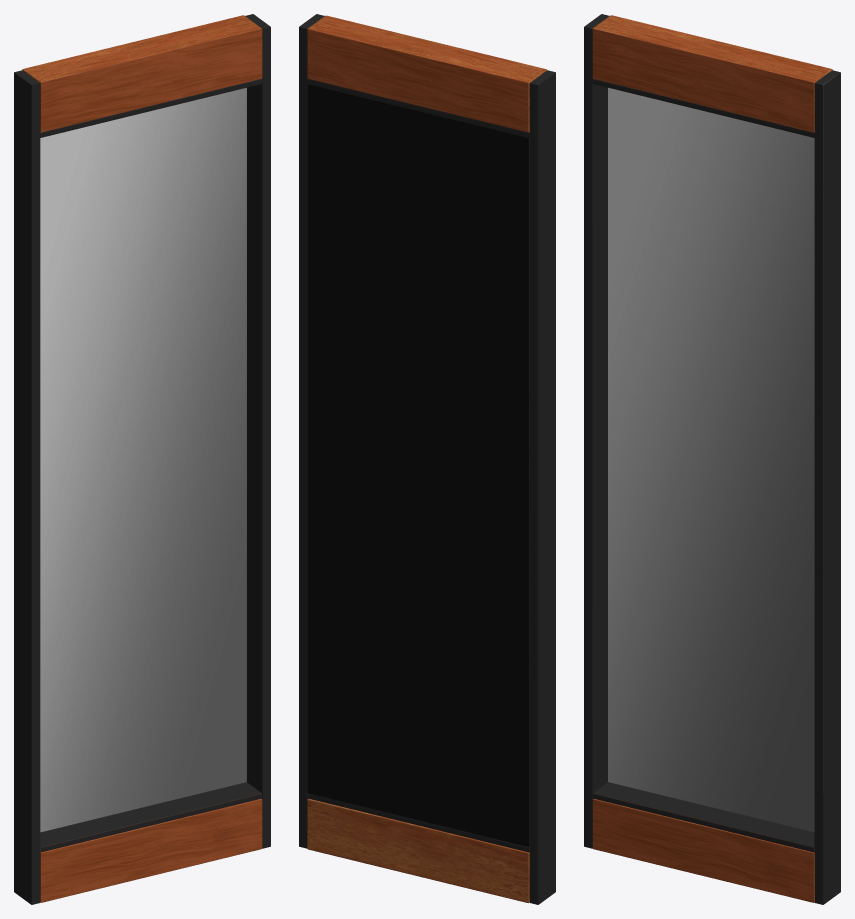
File: mirror_B073WHZKB2.glb
3 renders of one model, left to right at view 1: azimuth 30°, elevation 25°; view 2: azimuth 150°, elevation 25°; view 3: azimuth 330°, elevation 25°, orthographic.
Parts seen in each view (by area): view 1: RootNode; view 2: RootNode; view 3: RootNode.
Part boxes in pixels (x1,y1,x2,y2): RootNode: [14, 14, 270, 904]; RootNode: [299, 14, 555, 904]; RootNode: [584, 14, 840, 904].
Bounding box in the file's own units: 0.343 × 1.12 × 0.0465.
Materials: 1 (1 with a texture image).
